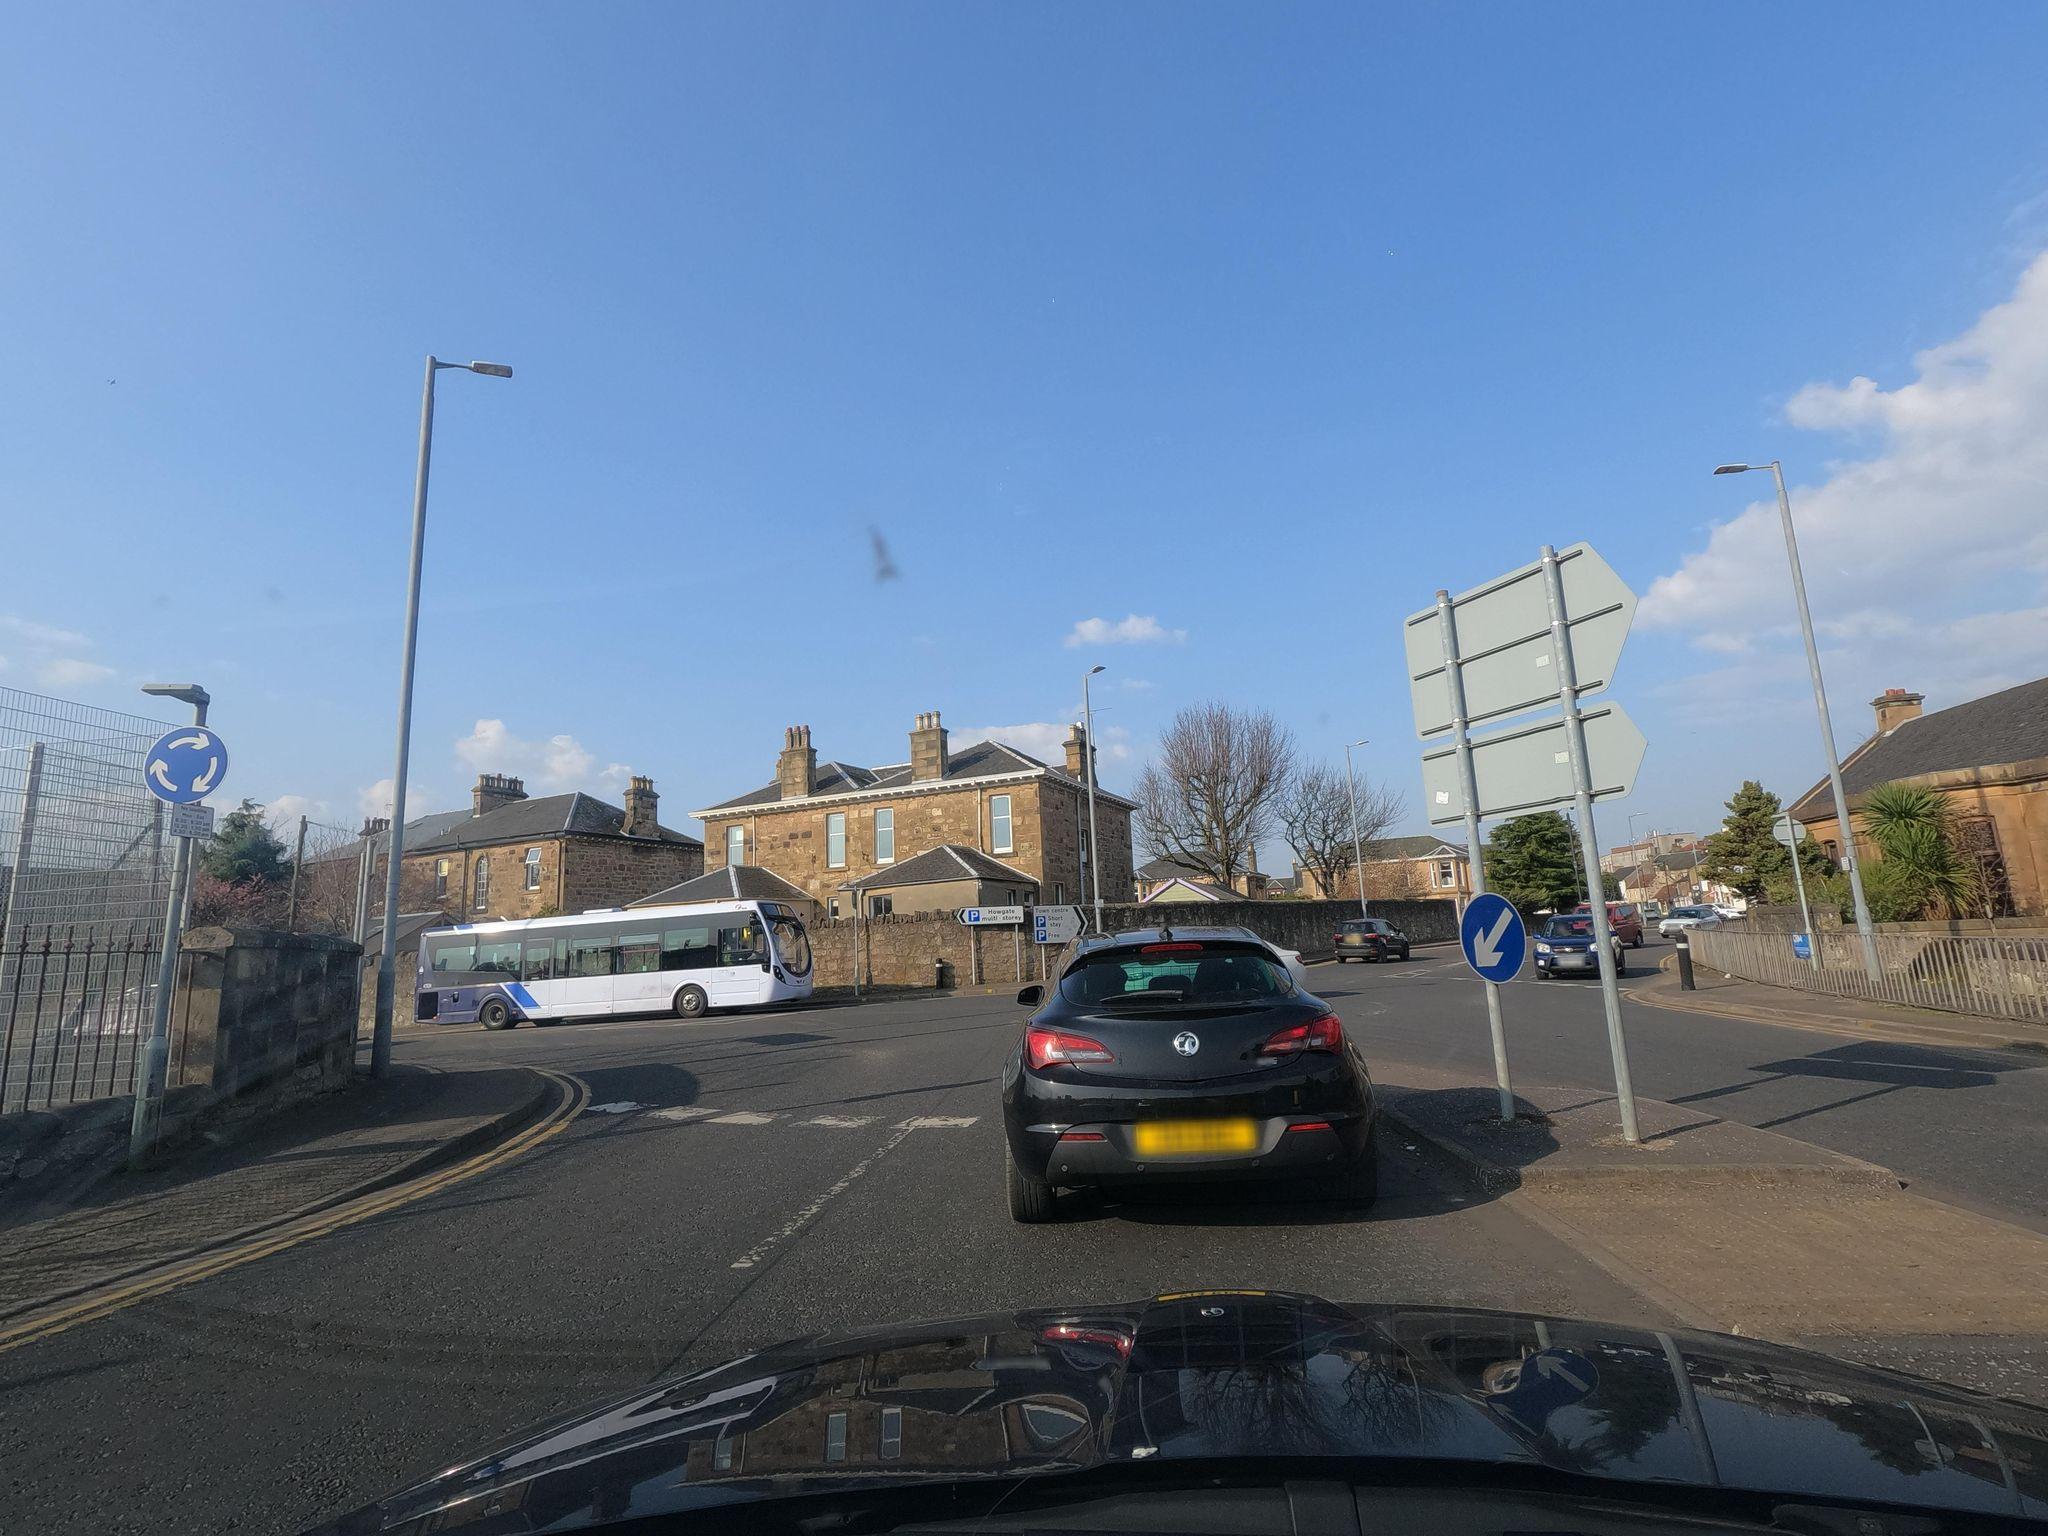bus: (411, 899, 814, 1031)
car: (998, 915, 1380, 1225), (1529, 913, 1625, 978), (1332, 918, 1409, 963), (1572, 902, 1645, 949), (1656, 907, 1722, 941)
